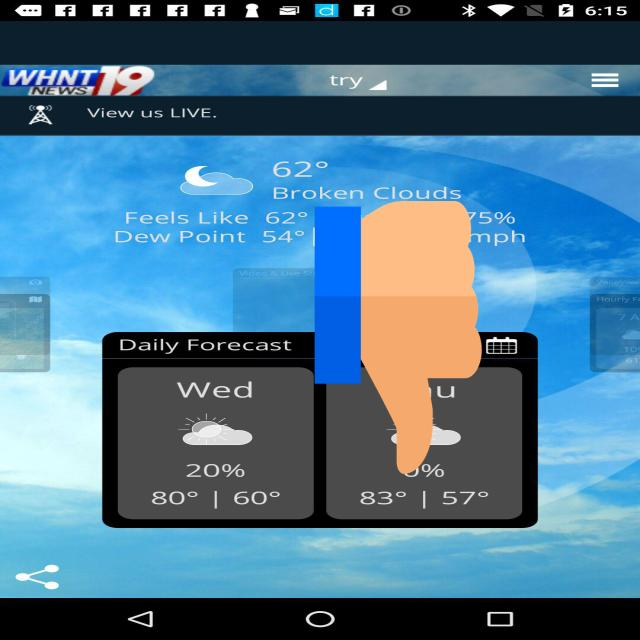obstruction: (314, 194, 482, 481)
